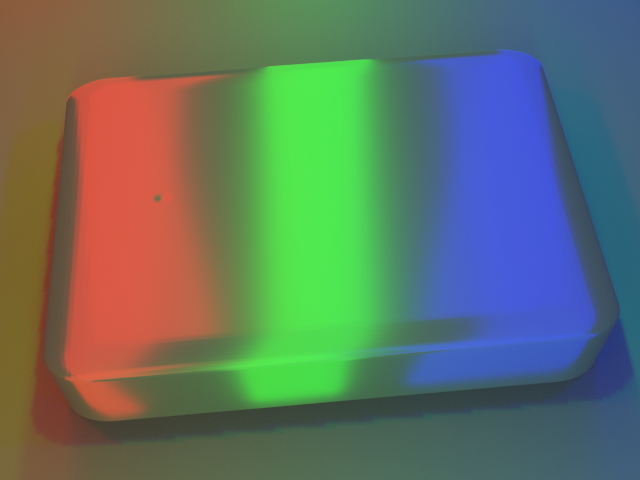dent: (121, 177, 167, 213)
